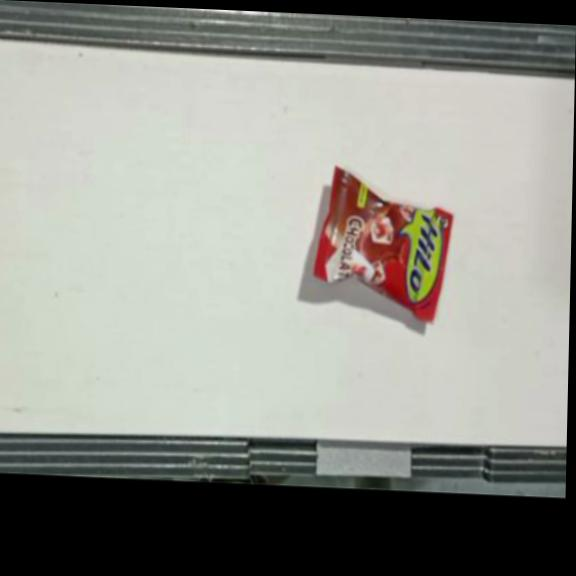Plastik: (313, 166, 456, 325)
